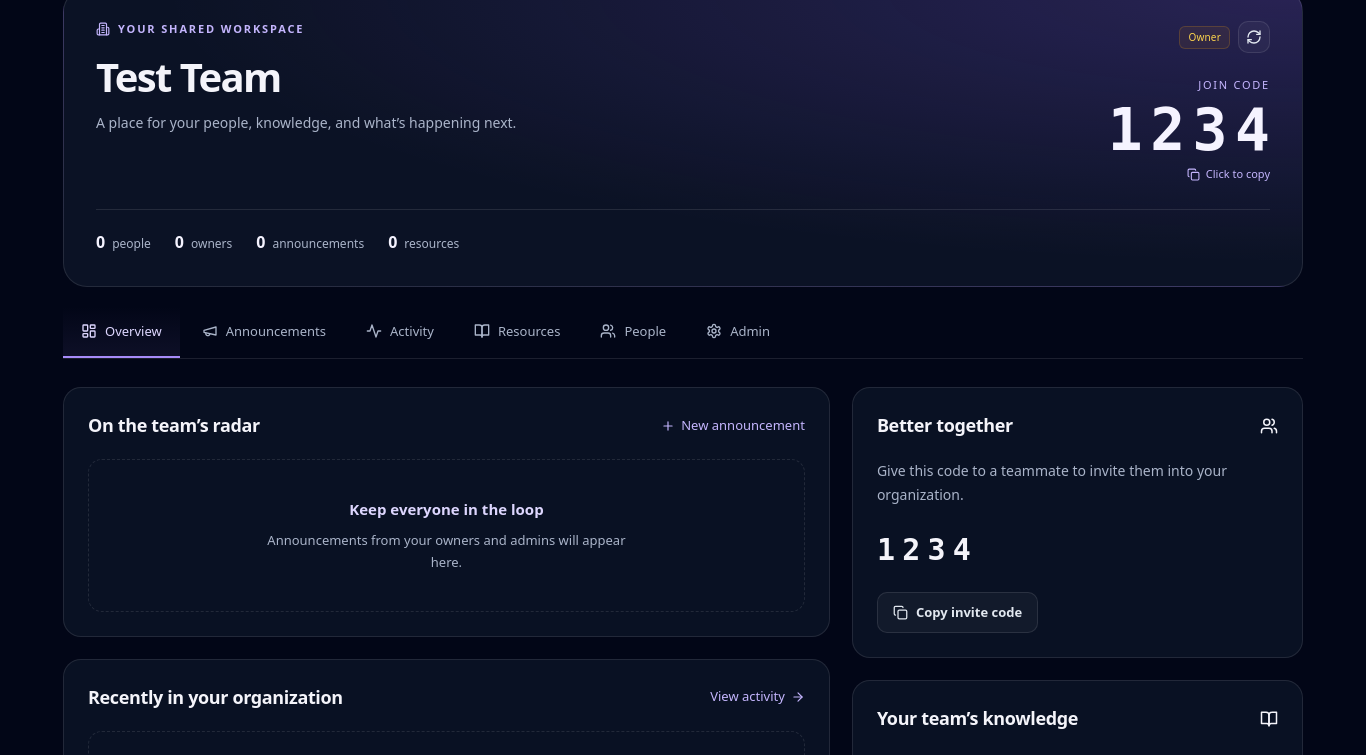
Organization deletion › resets confirmation when cancelled
This screenshot has width=1366, height=755.
Click the button "Admin" at coordinates (738, 332), box x1=688 y1=306 x2=788 y2=358
(page scrolled)
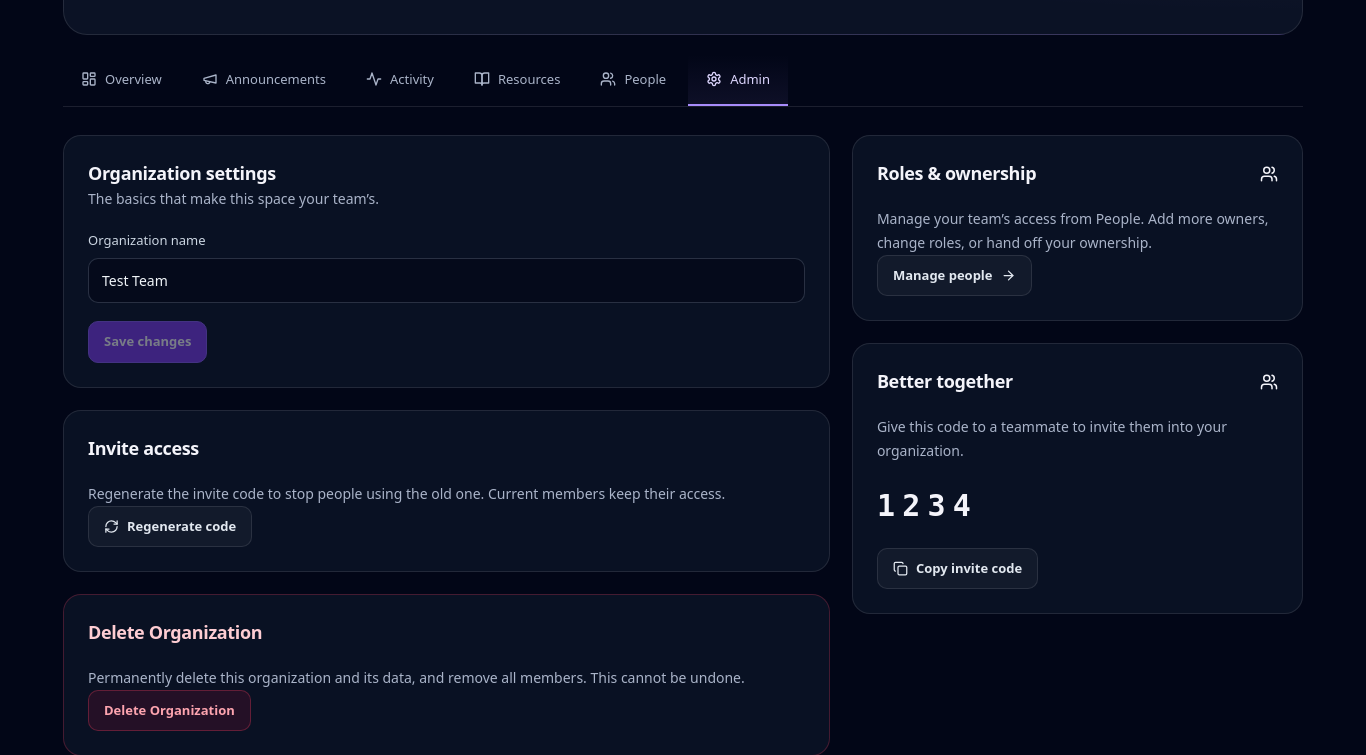
Click the button "Delete Organization" at coordinates (169, 711), box x1=88 y1=690 x2=251 y2=731
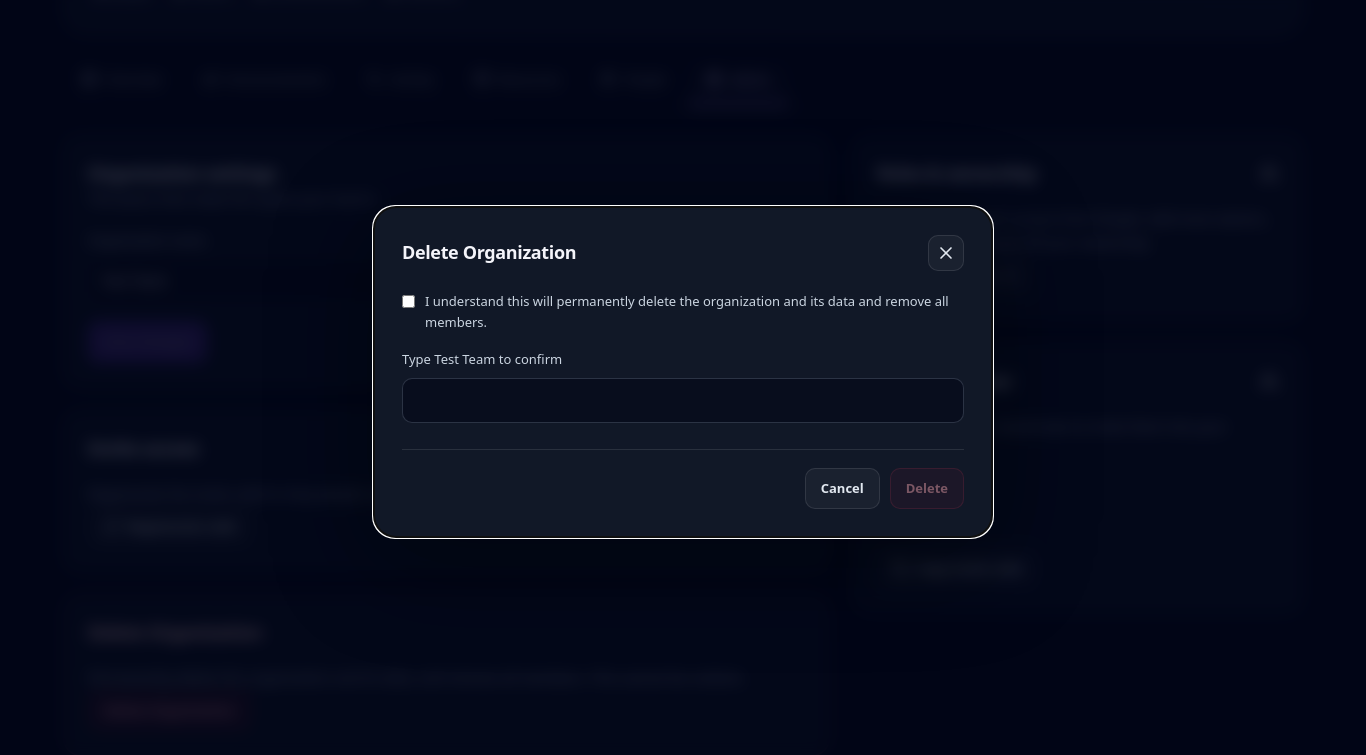
Click the checkbox at coordinates (408, 301), box x1=402 y1=295 x2=415 y2=308
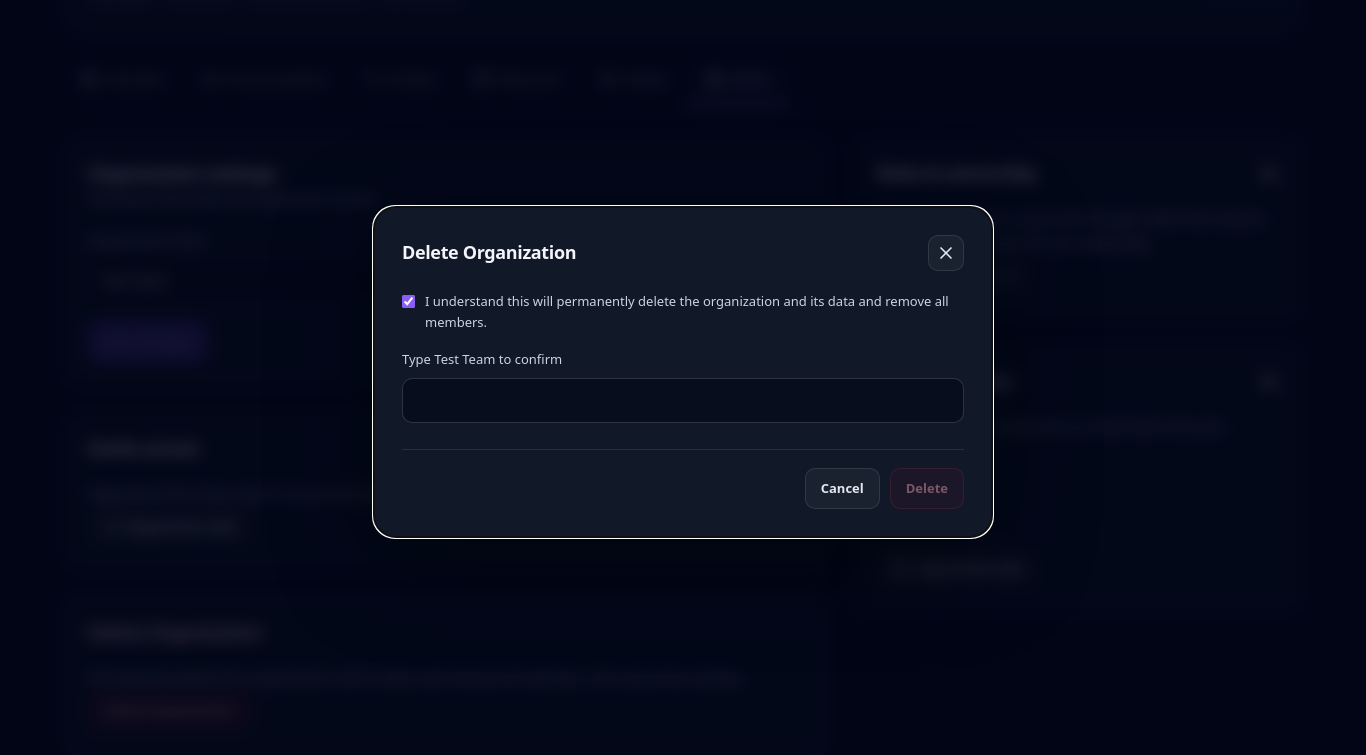
Type "Test Team" into the field named "Organization name to confirm deletion" at coordinates (683, 400), box x1=402 y1=378 x2=964 y2=423
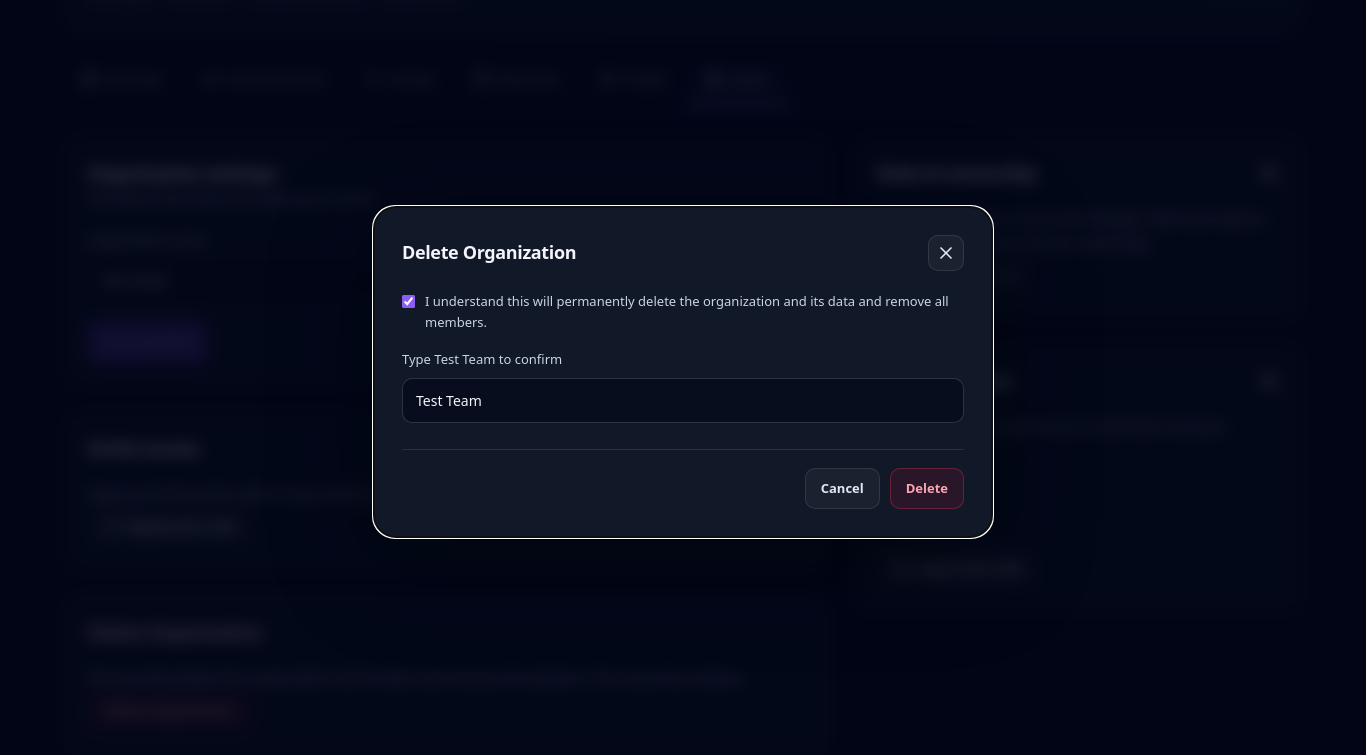
Click the button "Cancel" at coordinates (842, 489), box x1=805 y1=468 x2=880 y2=509
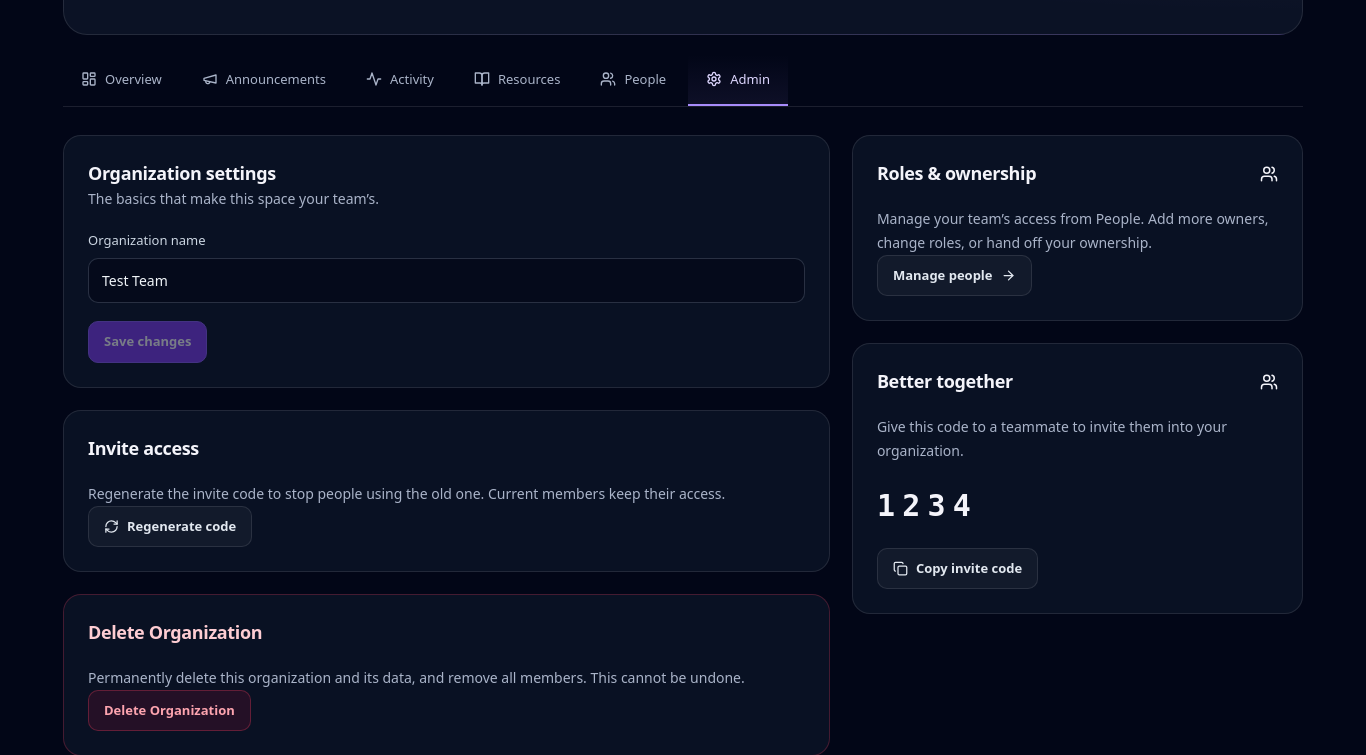
Click the button "Delete Organization" at coordinates (169, 711), box x1=88 y1=690 x2=251 y2=731
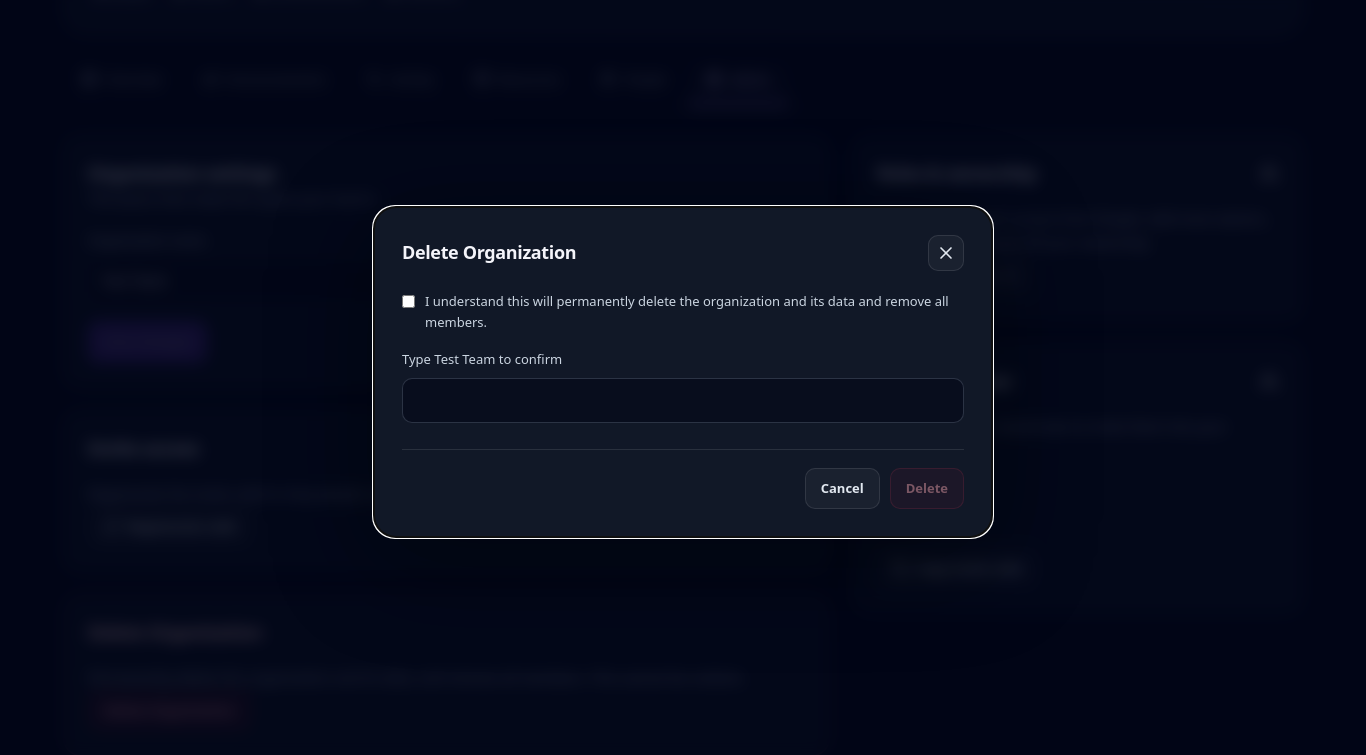
Check: the checkbox is not checked, box x1=402 y1=295 x2=415 y2=308
Check: the button "Delete" is disabled, box x1=890 y1=468 x2=964 y2=509
